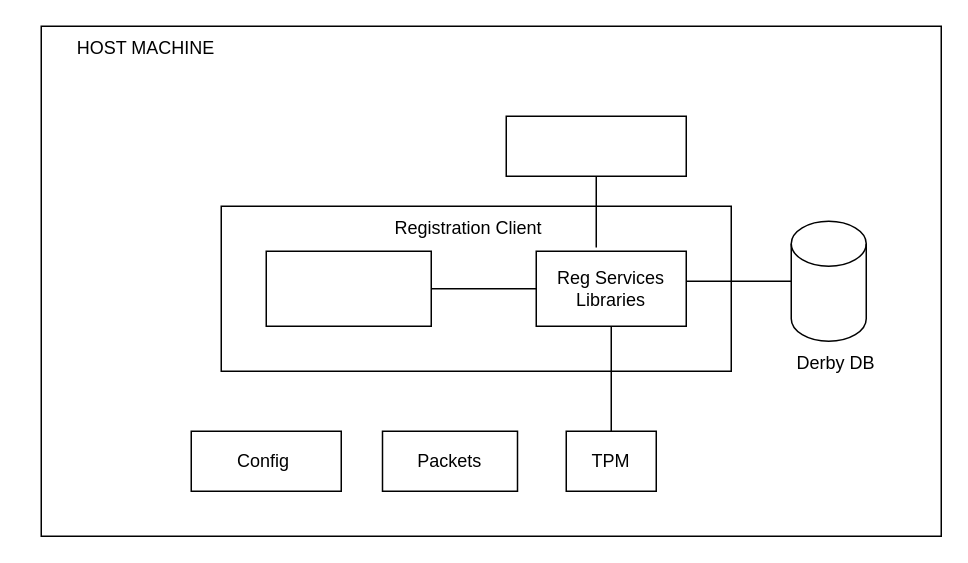
Some shapes in this 968 by 563 pixel diagram are drawn without their labels. Each missing label, with the box of its shape:
JavaFX Client: (265, 250, 431, 326)
SBI Service: (505, 115, 686, 176)
